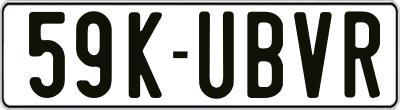5: (28, 11, 70, 103)
9: (76, 11, 114, 101)
B: (247, 10, 288, 102)
K: (129, 11, 167, 102)
R: (345, 8, 380, 101)
U: (198, 9, 237, 101)
V: (292, 12, 334, 104)
